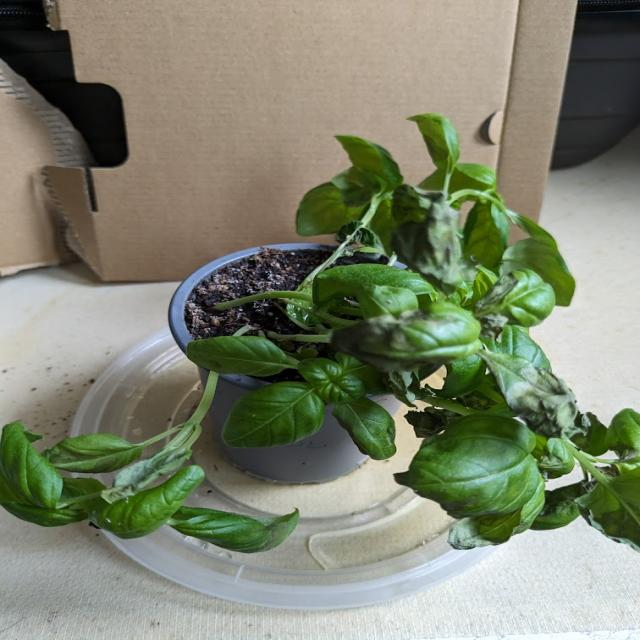dark: (332, 318, 462, 372), (398, 193, 470, 289), (104, 452, 194, 502), (525, 376, 580, 434), (38, 438, 143, 467), (477, 272, 522, 338), (543, 467, 601, 515), (434, 497, 517, 520), (446, 523, 506, 554), (251, 518, 294, 556), (405, 410, 456, 438), (382, 376, 420, 406), (611, 444, 639, 464)
healthy: (223, 391, 320, 450), (0, 426, 59, 512), (181, 335, 295, 378), (314, 266, 415, 303), (338, 404, 401, 459), (411, 113, 462, 165), (303, 358, 363, 400), (419, 164, 496, 193)
